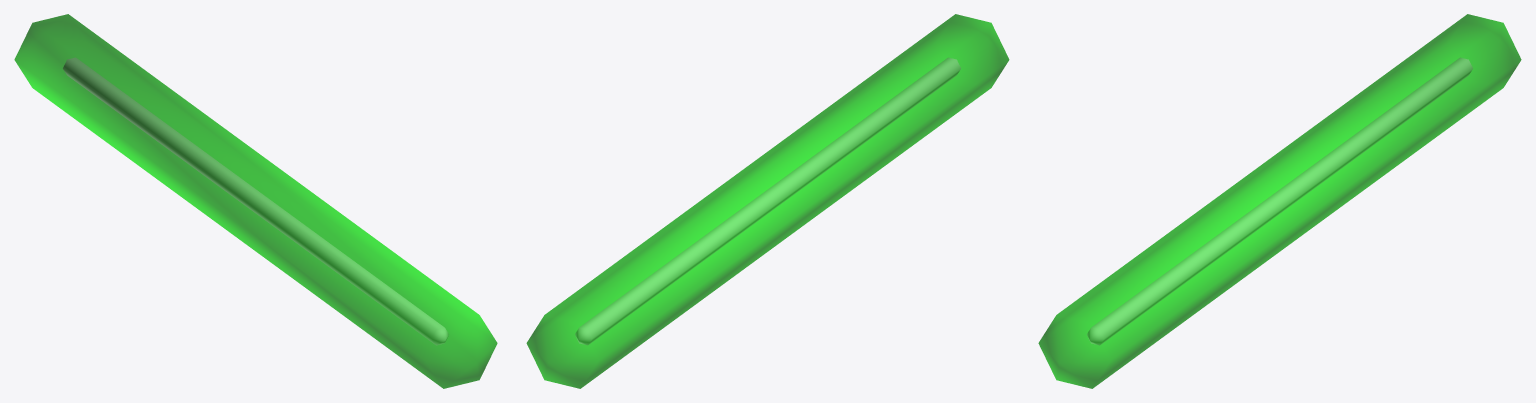
Rendered from green_turret_laser_model.fbx.
3 renders of one model, left to right at view 1: azimuth 30°, elevation 25°; view 2: azimuth 150°, elevation 25°; view 3: azimuth 330°, elevation 25°, orthographic.
Visible parts, largest first — view 1: glow, bolt; view 2: glow, bolt; view 3: glow, bolt.
Boxes of the visible parts, x1,y1,x2,y2 form: glow: (14, 14, 497, 388); bolt: (63, 57, 448, 345); glow: (526, 14, 1009, 388); bolt: (575, 57, 960, 345); glow: (1038, 14, 1521, 388); bolt: (1087, 57, 1472, 345).
Size of the model in its own units: 7.56 by 6.55 by 80.08.
